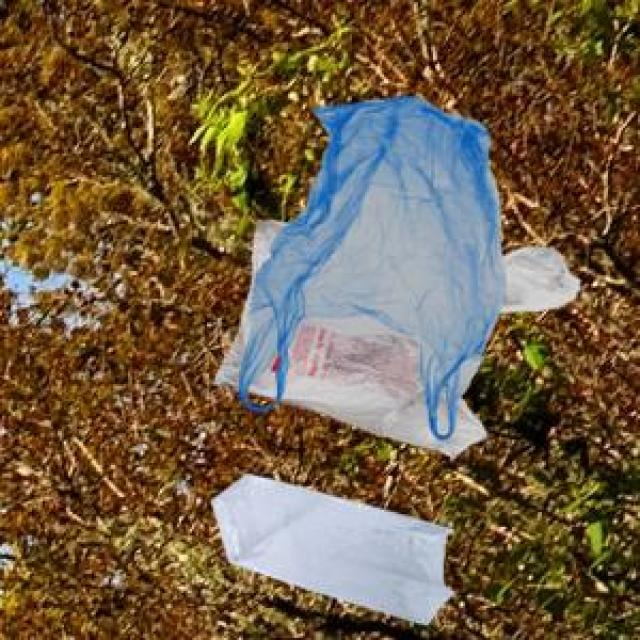plastic: (211, 66, 579, 481)
